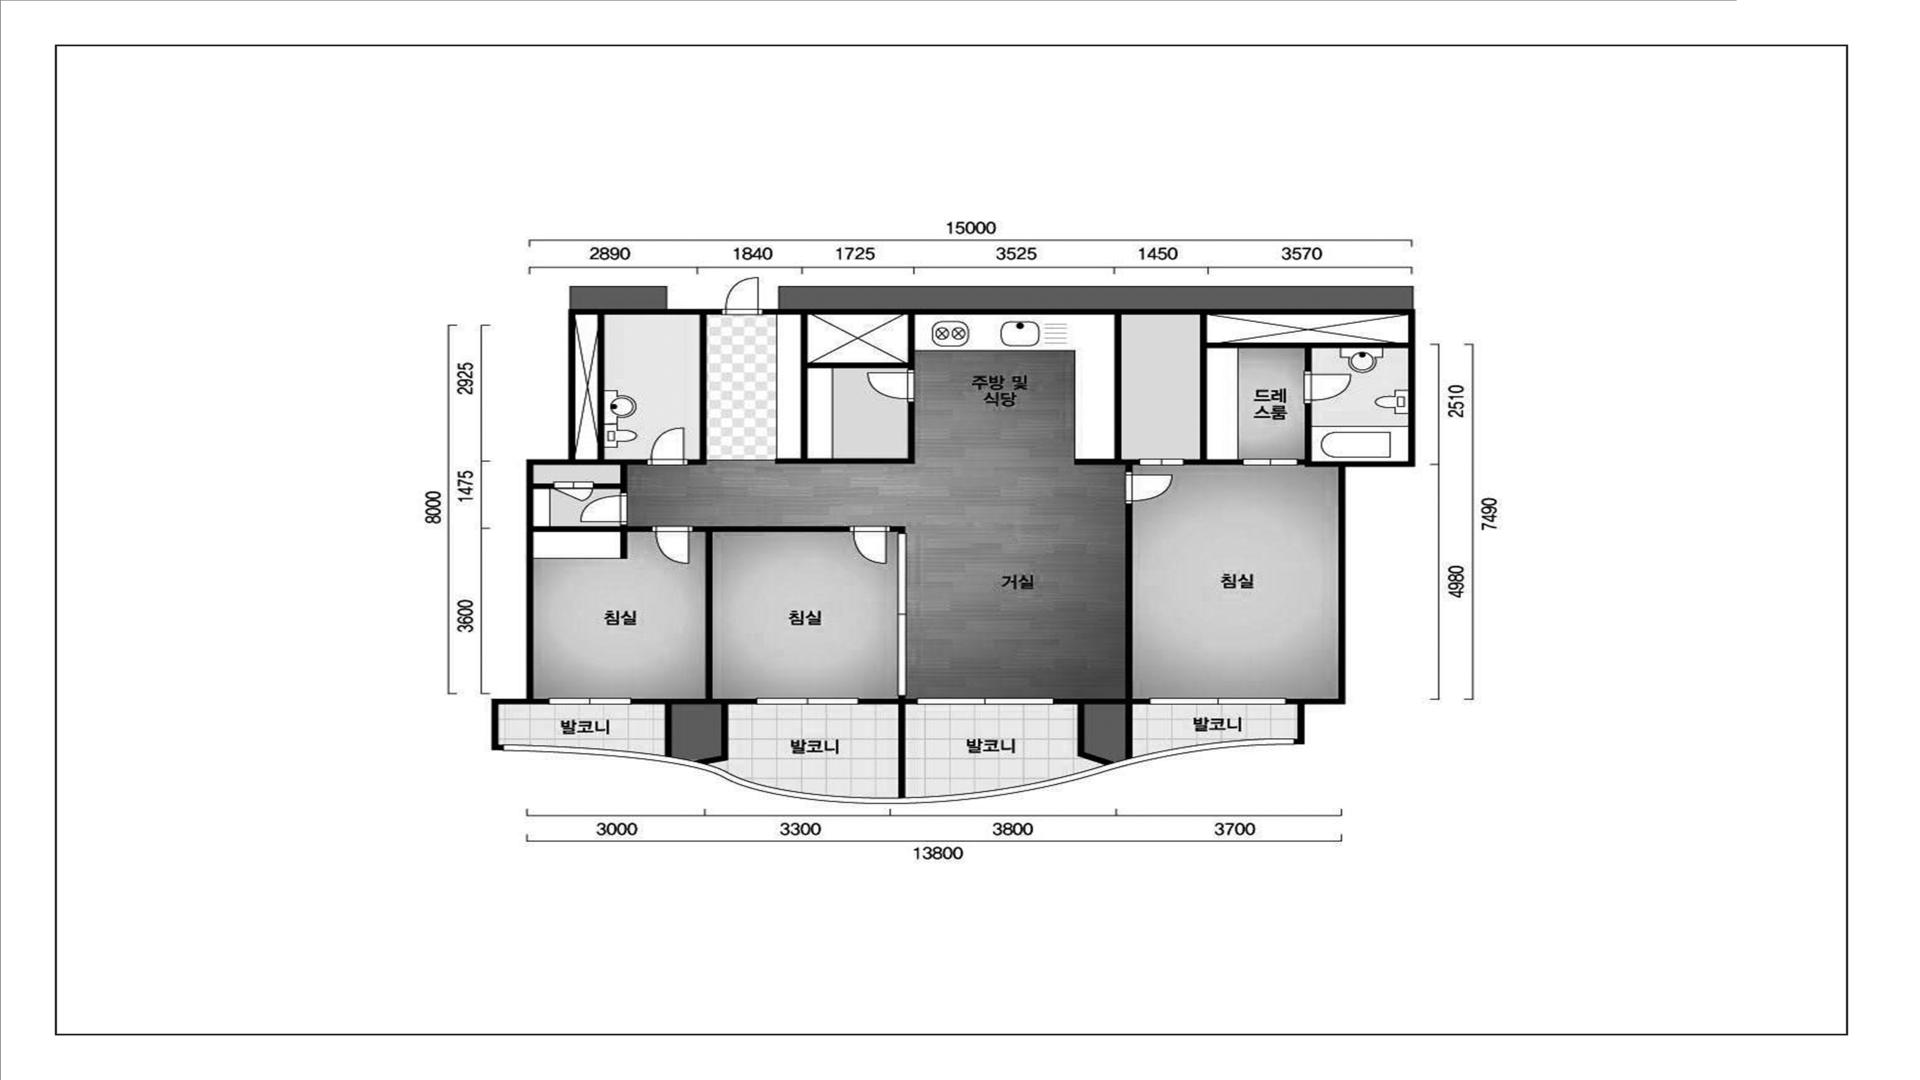background: (0, 0, 1920, 1080)
door: (1125, 471, 1174, 504), (866, 369, 915, 402), (1303, 372, 1353, 404), (653, 526, 694, 564), (849, 526, 890, 564), (647, 427, 688, 465), (721, 277, 764, 314), (580, 493, 628, 525), (554, 481, 593, 502)
wall: (762, 310, 1415, 744), (492, 309, 723, 750), (632, 526, 849, 765), (1185, 314, 1408, 465), (1054, 504, 1149, 765), (775, 314, 915, 464), (575, 314, 647, 493), (1073, 314, 1139, 471), (858, 696, 916, 798), (533, 525, 653, 559), (688, 314, 707, 464), (1299, 404, 1338, 467), (890, 526, 905, 533), (533, 484, 554, 488), (534, 699, 549, 704)
window: (502, 738, 1294, 803), (897, 533, 907, 696), (916, 698, 1054, 704), (1149, 698, 1286, 704), (757, 698, 858, 704), (549, 698, 632, 704), (1242, 459, 1299, 465), (1138, 459, 1185, 465)
